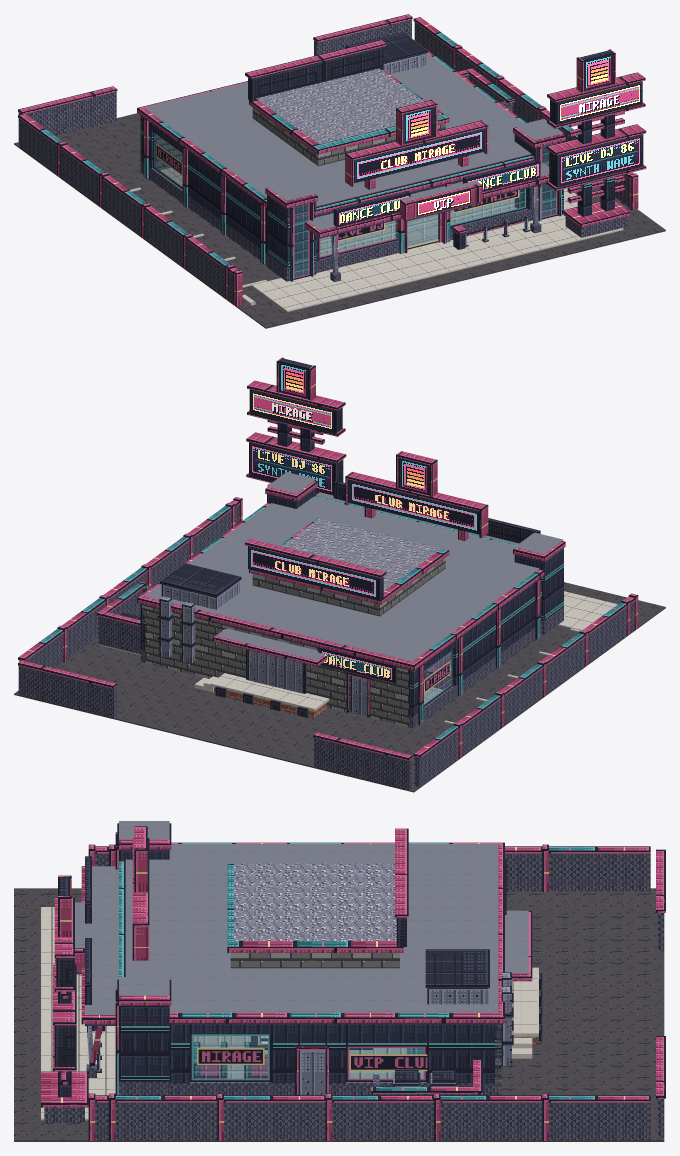
Rendered from mirage-nightclub.glb.
3 renders of one model, top to bottom at view 1: azimuth 30°, elevation 25°; view 2: azimuth 150°, elevation 25°; view 3: azimuth 270°, elevation 25°, orthographic. The views are drawn at different scales.
Visible parts, largest first — view 1: structure, lot, marquee_pylon, door_panel_main, service_yard, vip_rope_line; view 2: structure, lot, marquee_pylon, service_yard, door_panel_back; view 3: structure, lot, marquee_pylon, service_yard, door_panel_side.
Boxes of the visible parts, <box> form: structure: <box>137,32,565,281</box>; lot: <box>14,14,665,328</box>; marquee_pylon: <box>546,49,646,237</box>; door_panel_main: <box>407,213,441,249</box>; service_yard: <box>457,68,514,112</box>; vip_rope_line: <box>451,216,529,249</box>; structure: <box>137,451,565,728</box>; lot: <box>14,497,665,792</box>; marquee_pylon: <box>246,357,346,495</box>; service_yard: <box>96,581,151,655</box>; door_panel_back: <box>350,676,367,716</box>; structure: <box>75,821,542,1095</box>; lot: <box>14,844,665,1141</box>; marquee_pylon: <box>41,875,88,1122</box>; service_yard: <box>371,1058,482,1095</box>; door_panel_side: <box>298,1050,325,1095</box>.
Size of what is drawn, in the model's own units: 27.47 by 11.33 by 29.88.
12 materials, 12 textured.
